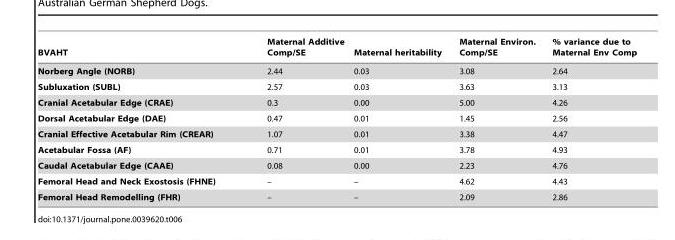table: (37, 37, 636, 201)
table column: (37, 37, 240, 201), (240, 37, 348, 201), (348, 37, 449, 201), (449, 37, 543, 201), (543, 37, 636, 201)
table column header: (37, 37, 636, 61)
table row: (37, 37, 636, 61), (37, 61, 636, 78), (37, 78, 636, 94), (37, 94, 636, 110), (37, 110, 636, 126), (37, 141, 636, 157), (37, 157, 636, 173), (37, 173, 636, 189), (37, 126, 636, 141), (37, 189, 636, 201)
